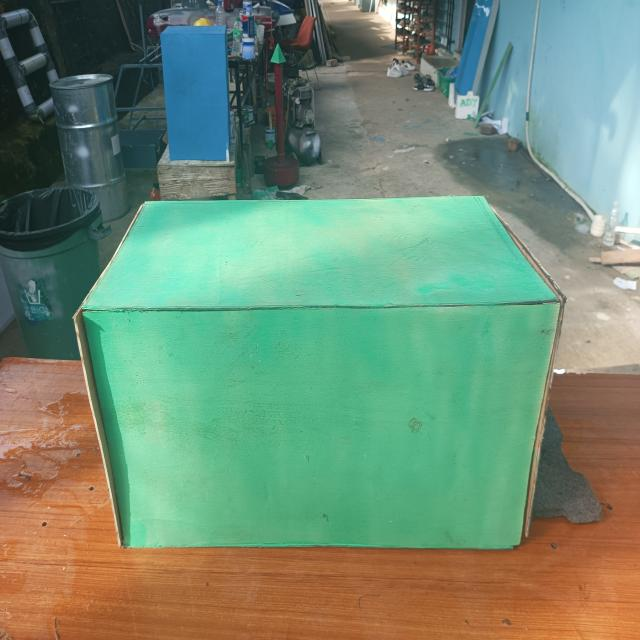green_box: (81, 198, 562, 558)
